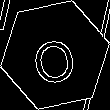O_N: (29, 25, 81, 85)
